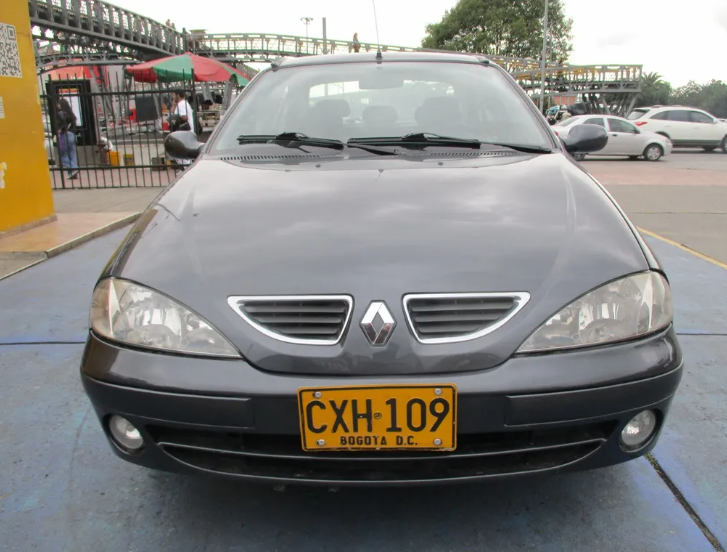placa: (296, 387, 458, 450)
